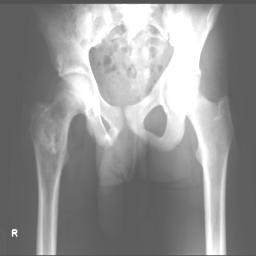cancer: (33, 106, 67, 198)
